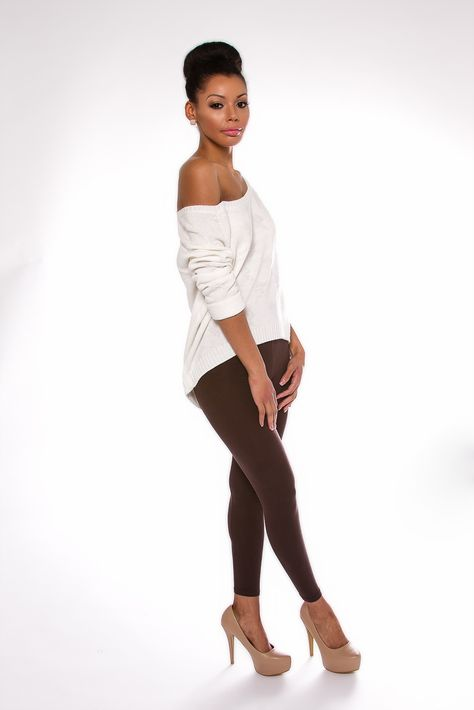person: (155, 27, 379, 682)
